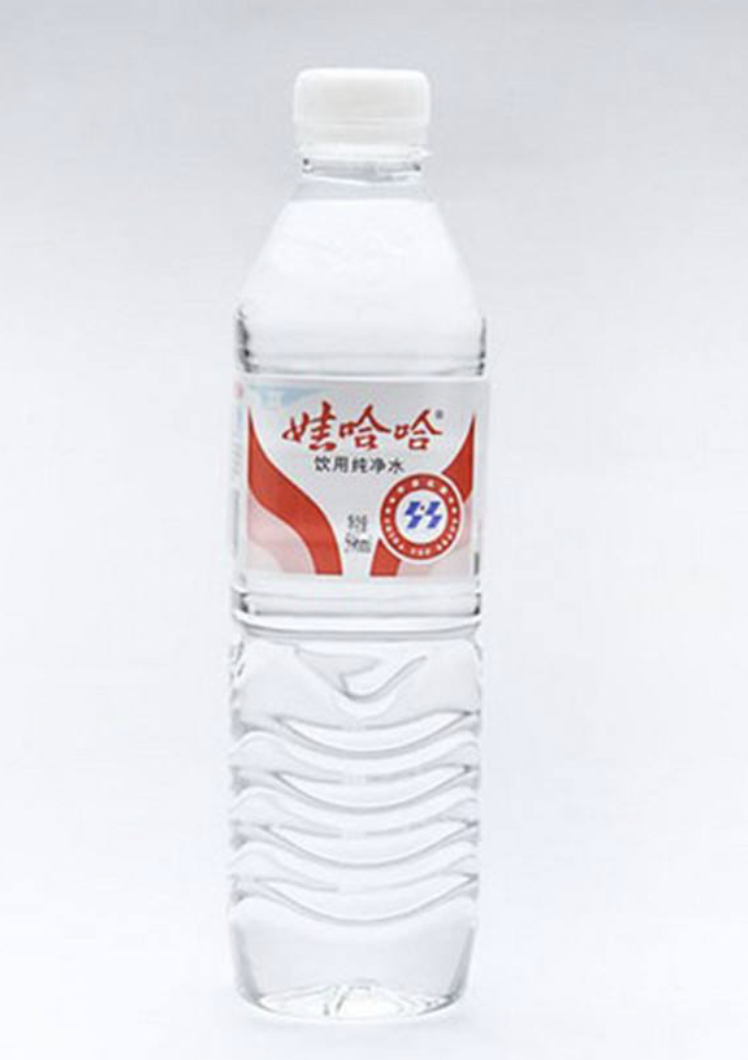哇哈哈: (224, 63, 484, 1030)
